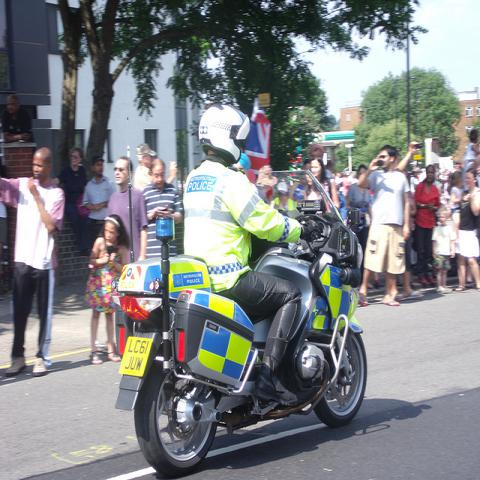motorcycle: (113, 170, 369, 474)
